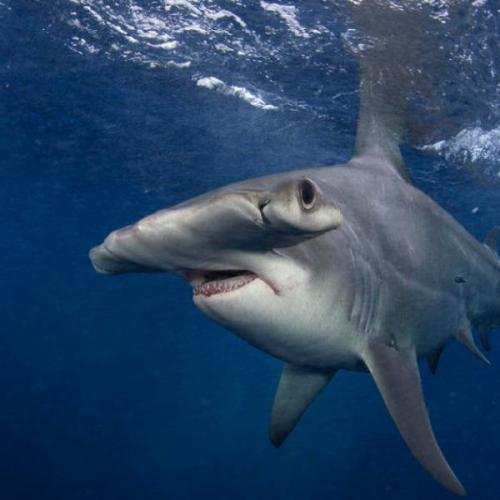shark-endangered: (89, 113, 500, 497)
